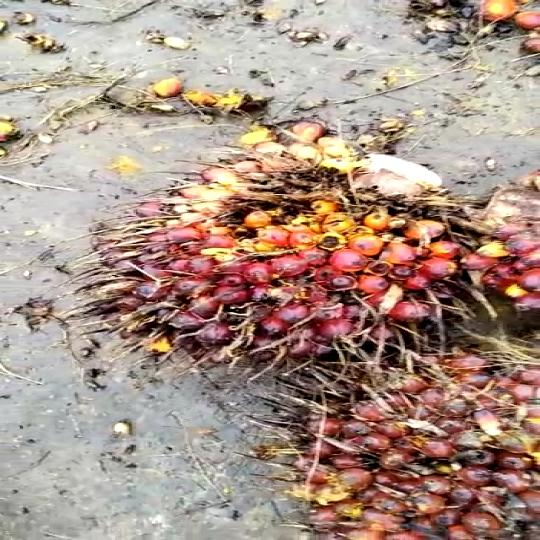masak: (87, 129, 540, 355), (265, 352, 540, 540)
